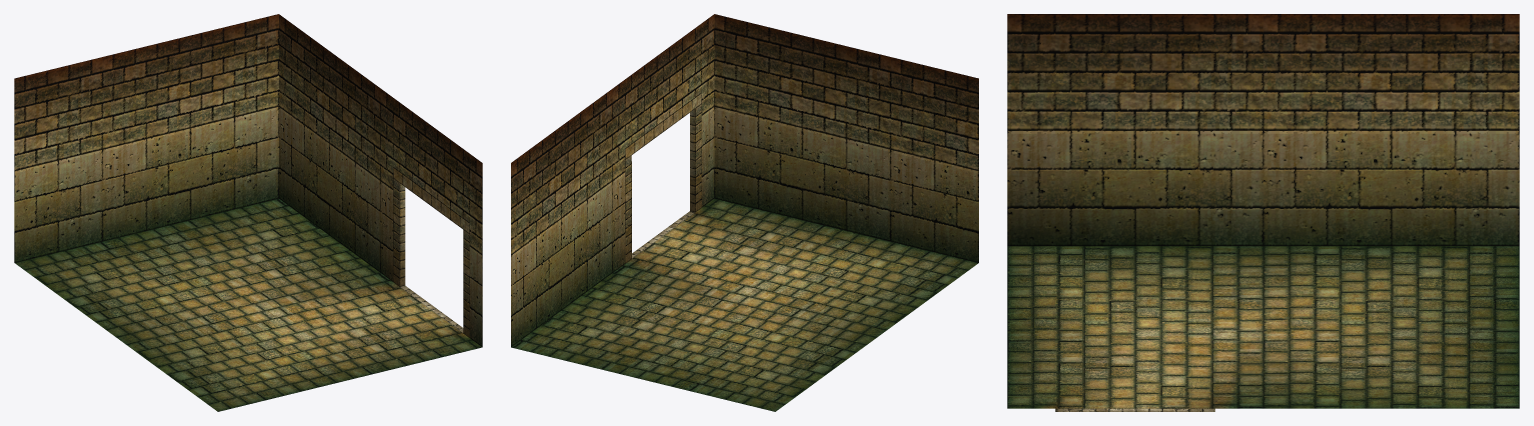
The model's file is MISSION12_INTERIORROOMS01C.glb.
The picture shows the model from 3 angles, left to right: view 1: azimuth 30°, elevation 25°; view 2: azimuth 150°, elevation 25°; view 3: azimuth 270°, elevation 25°; orthographic projection. The views are drawn at different scales.
Parts seen in each view (by area): view 1: MISSION12_INTERIORROOMS01C; view 2: MISSION12_INTERIORROOMS01C; view 3: MISSION12_INTERIORROOMS01C.
Part boxes in pixels (box(x1,y1,x2,y2)): MISSION12_INTERIORROOMS01C: box(14, 14, 482, 411); MISSION12_INTERIORROOMS01C: box(511, 14, 978, 411); MISSION12_INTERIORROOMS01C: box(1007, 14, 1519, 411).
Bounding box in the file's own units: 6.13 × 4 × 8.
Materials: 8 (8 with a texture image).
